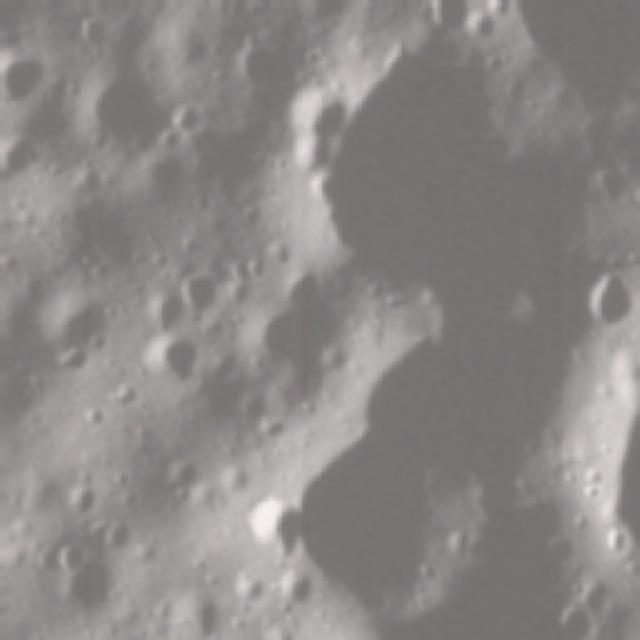crater: (252, 269, 362, 400), (77, 62, 163, 160), (575, 262, 640, 336), (0, 36, 58, 110), (235, 499, 302, 552), (138, 331, 191, 389), (541, 594, 602, 640), (415, 0, 480, 40), (163, 266, 217, 314), (0, 130, 35, 186), (48, 536, 88, 578), (0, 296, 5, 349), (0, 553, 3, 630)
